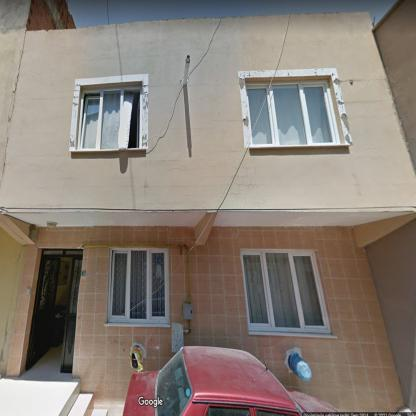door: (26, 256, 60, 372), (61, 257, 81, 372)
window: (241, 251, 330, 332), (247, 80, 339, 145), (109, 249, 168, 323), (78, 86, 140, 149)
